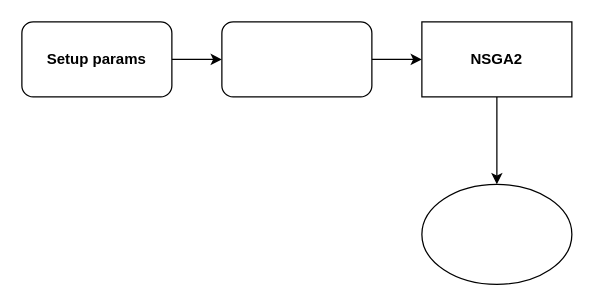
This 594x306 diagram has some shape labels left out. Here are the shapes that lost their labels. From the top down, the centre of each, then its label:
[296,59]: Init populations
[496,233]: outputs
